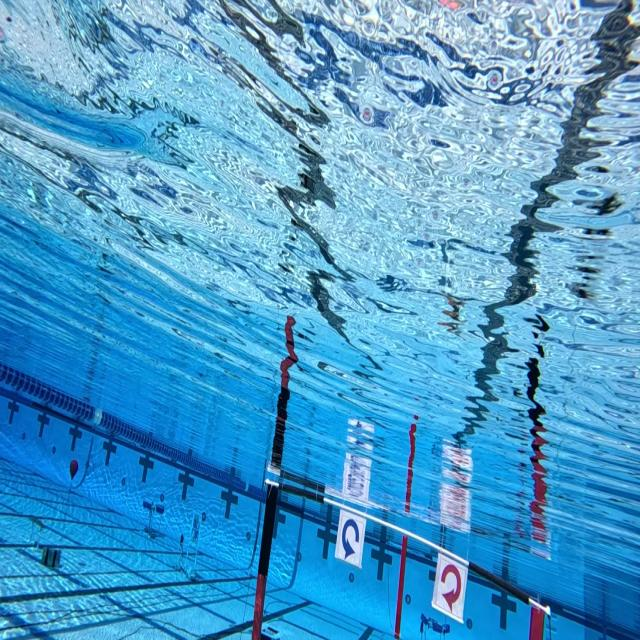blue_side: (335, 499, 367, 572)
red_side: (431, 548, 470, 619)
